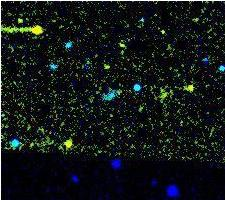star: (51, 128, 81, 158)
